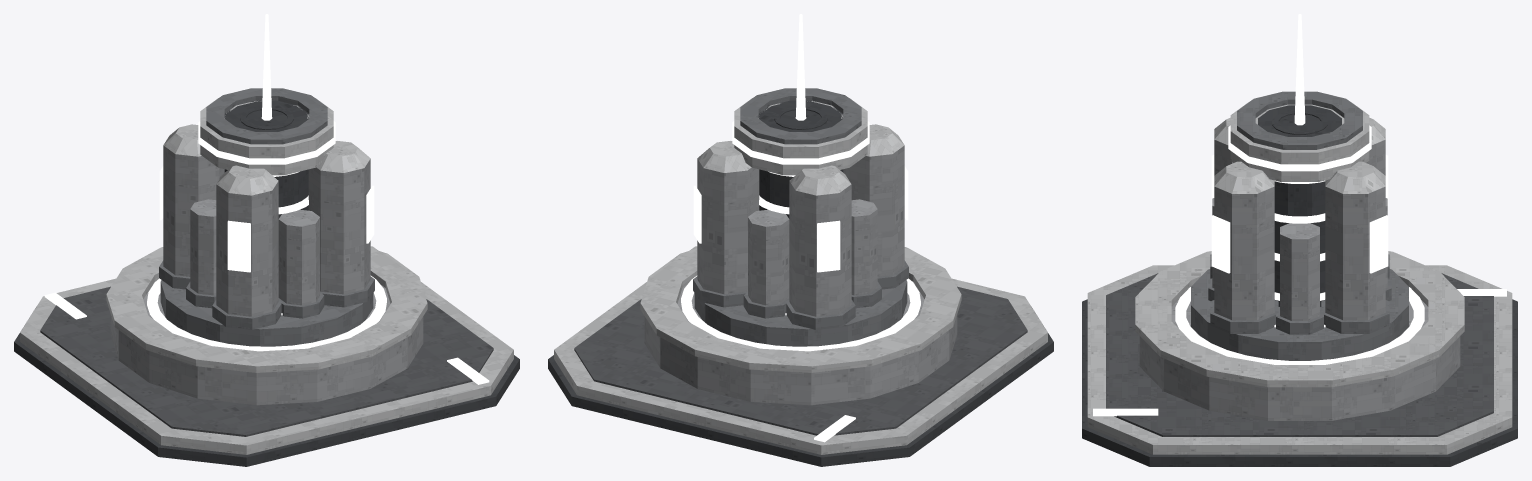
File: power_ii_lod2.glb
3 renders of one model, left to right at view 1: azimuth 30°, elevation 25°; view 2: azimuth 150°, elevation 25°; view 3: azimuth 270°, elevation 25°, orthographic. The views are drawn at different scales.
Visible parts, largest first — view 1: power_ii_base_body.002, power_ii_base_glow.002, power_ii_core_glow.002, power_ii_conduit_glow.002, power_ii_beam_glow.002; view 2: power_ii_base_body.002, power_ii_base_glow.002, power_ii_core_glow.002, power_ii_beam_glow.002; view 3: power_ii_base_body.002, power_ii_base_glow.002, power_ii_core_glow.002, power_ii_conduit_glow.002, power_ii_beam_glow.002, power_ii_core_body.002.
Part boxes in pixels (<box>): power_ii_base_body.002: <box>14,88,519,466</box>; power_ii_base_glow.002: <box>159,121,374,272</box>; power_ii_core_glow.002: <box>147,171,386,351</box>; power_ii_conduit_glow.002: <box>44,292,489,384</box>; power_ii_beam_glow.002: <box>261,14,272,120</box>; power_ii_base_body.002: <box>548,88,1053,466</box>; power_ii_base_glow.002: <box>693,121,908,272</box>; power_ii_core_glow.002: <box>681,171,920,351</box>; power_ii_beam_glow.002: <box>795,14,806,120</box>; power_ii_base_body.002: <box>1082,91,1517,466</box>; power_ii_base_glow.002: <box>1211,125,1388,273</box>; power_ii_core_glow.002: <box>1175,180,1424,364</box>; power_ii_conduit_glow.002: <box>1093,289,1506,416</box>; power_ii_beam_glow.002: <box>1294,14,1305,125</box>; power_ii_core_body.002: <box>1272,110,1327,134</box>.
Size of the model in its own units: 4 by 3.65 by 4.
Materials: 2 (1 with a texture image).
